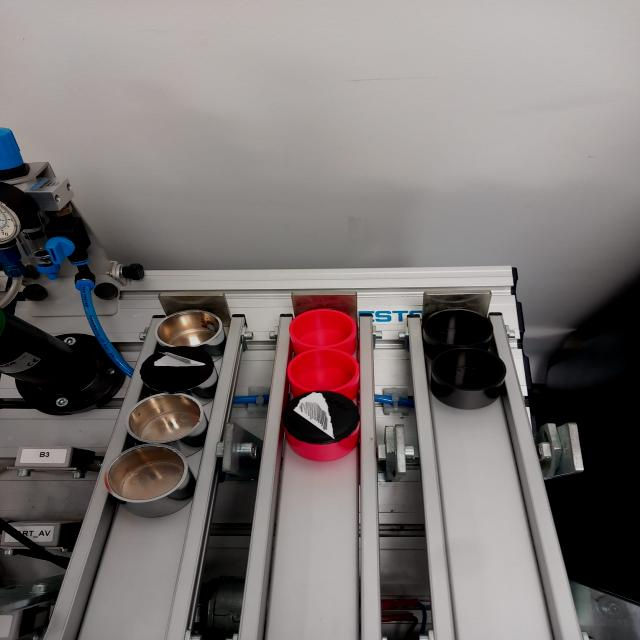NoLid: (107, 442, 196, 515), (425, 346, 504, 411), (125, 388, 208, 448), (284, 346, 360, 394), (284, 310, 361, 351), (154, 308, 228, 349), (425, 302, 493, 346)
